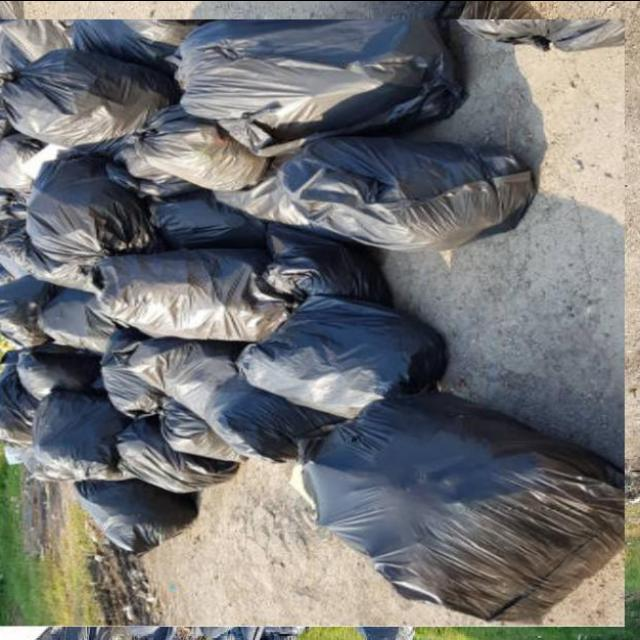plastik: (304, 393, 624, 620), (175, 19, 464, 155), (215, 136, 534, 249), (238, 295, 444, 417), (97, 248, 291, 340), (0, 48, 179, 146), (26, 152, 159, 265), (206, 373, 341, 462), (136, 104, 269, 191), (264, 223, 389, 304), (128, 338, 242, 418), (117, 416, 237, 491), (74, 478, 196, 550), (32, 389, 130, 478), (150, 188, 265, 248), (101, 329, 167, 417), (159, 398, 245, 460), (37, 288, 118, 352), (18, 343, 102, 399), (0, 275, 57, 347), (0, 367, 39, 445)
